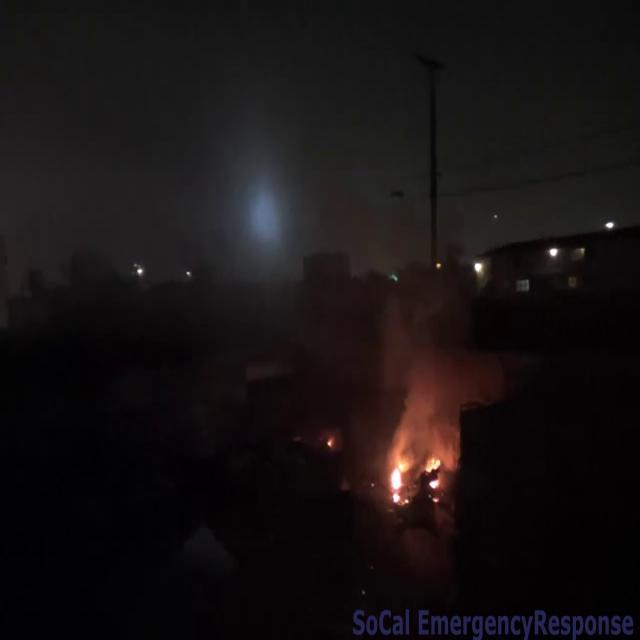Fire: (386, 435, 448, 501)
Smoke: (376, 268, 506, 432)
